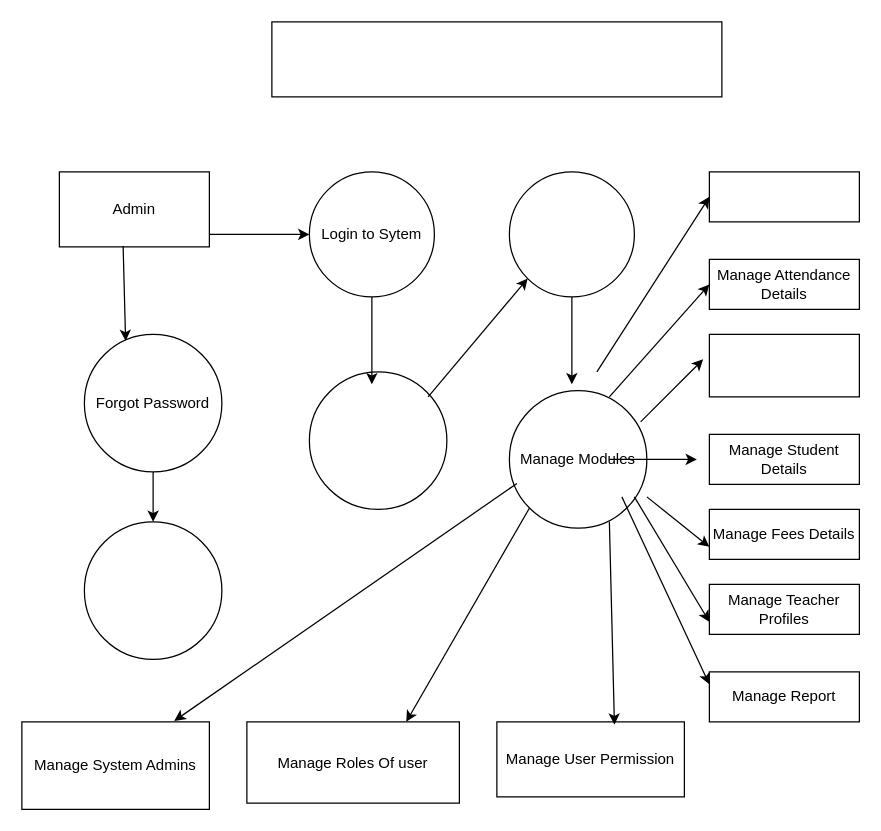
Image size: 881x831. Some labels were removed from this diagram. Here are the shapes that lost their labels. From the top down, the centre of each, then its label:
At point 496,59: "Student Information System".
At point 783,196: "Manage Timetable Details".
At point 571,234: "check Roles Of Access".
At point 783,365: "Manage Class Details".
At point 377,440: "Check Crendentials".
At point 152,590: "Send Email to the User".
